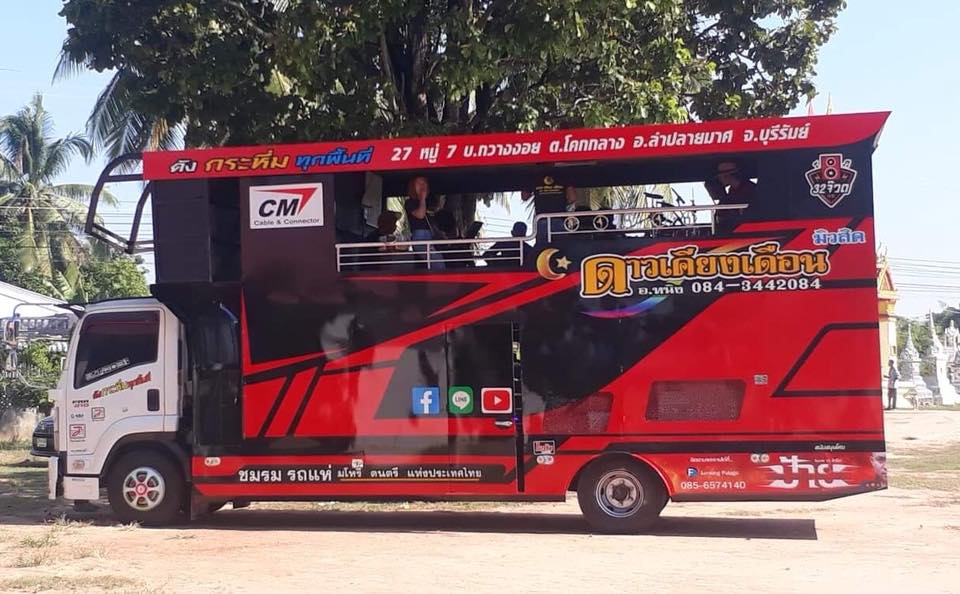truck: (49, 108, 892, 532)
